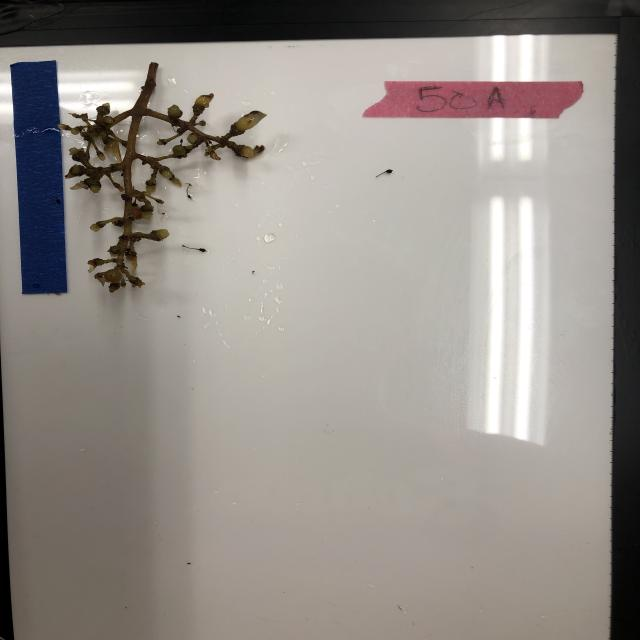index: (363, 80, 585, 118)
measure_label: (10, 59, 67, 296)
rachis_cluster: (56, 60, 270, 298)
